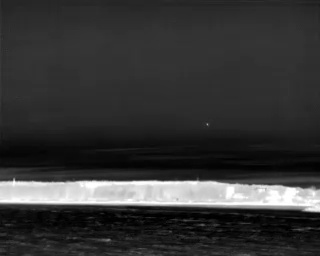HELICOPTER: (204, 120, 211, 129)
